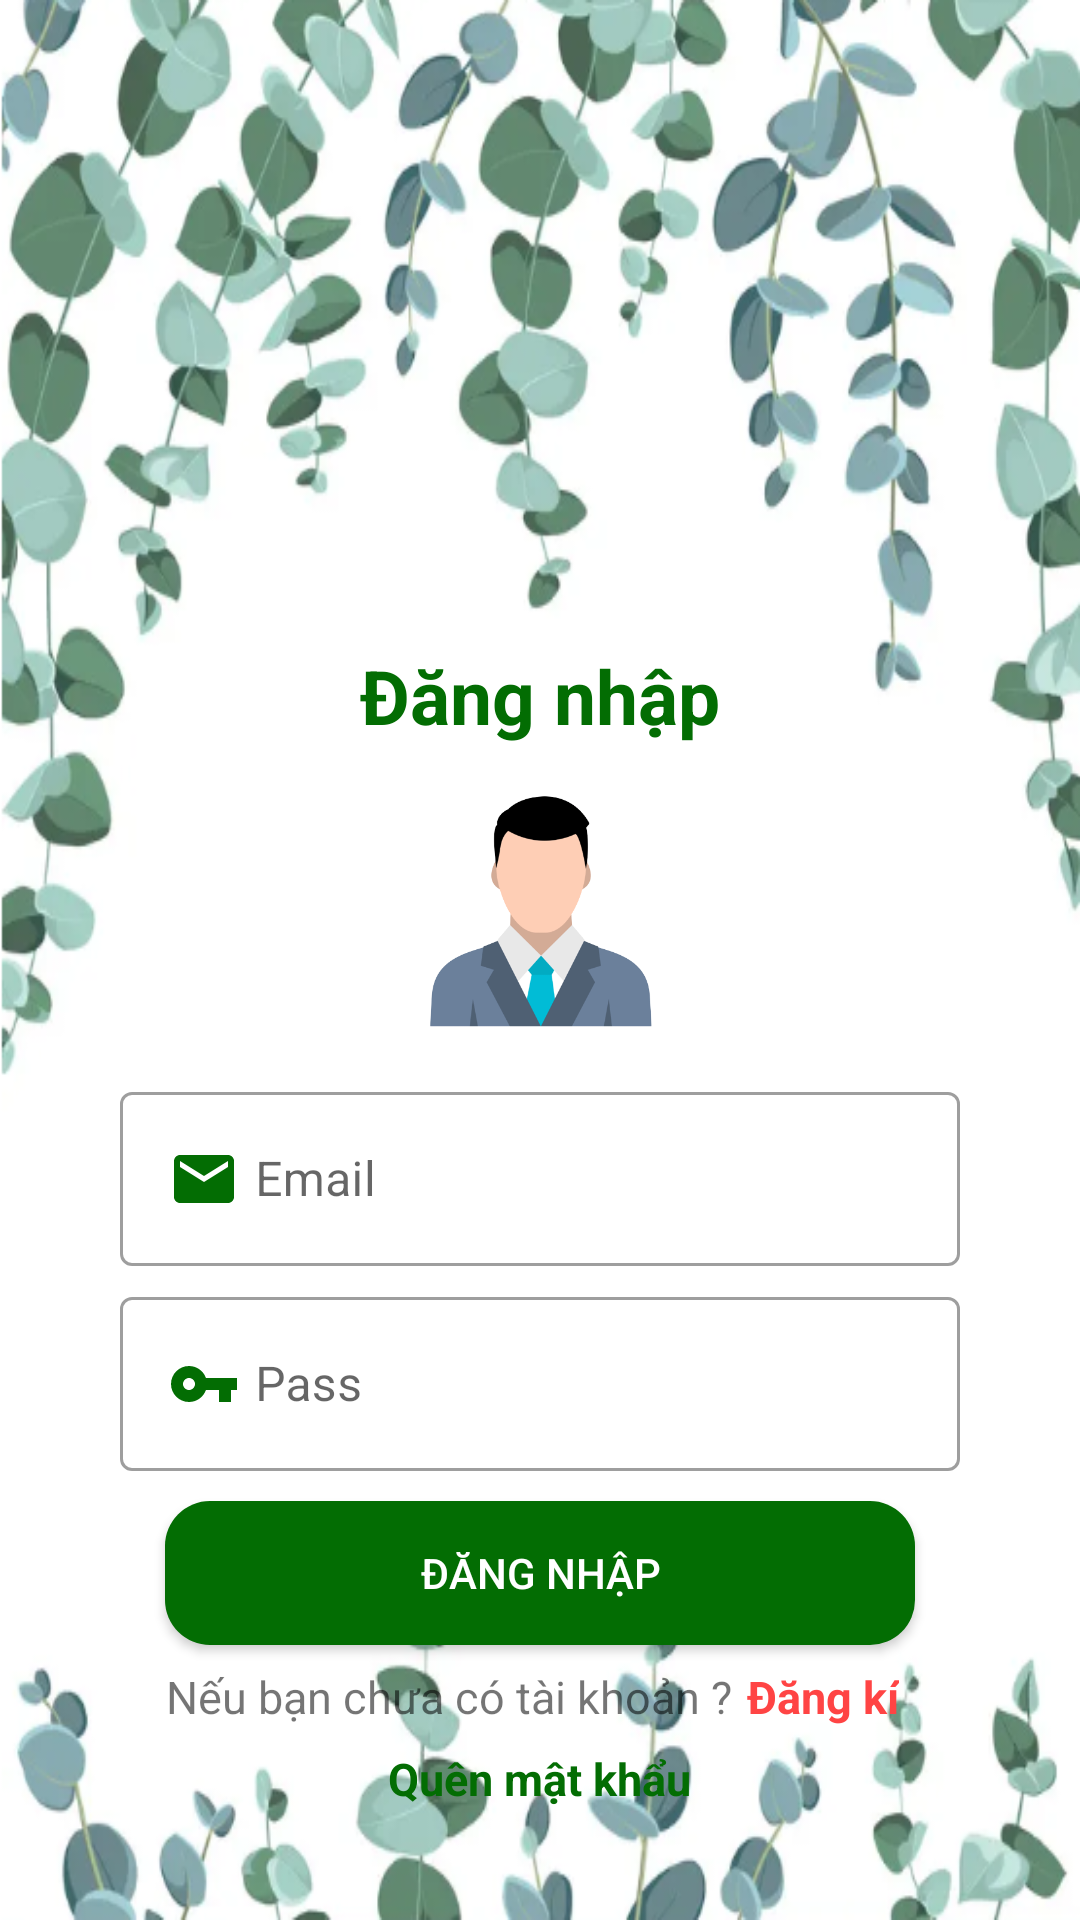

Where icons sit on this 1080*1920 app screen, as (x1, y1, x2, y2):
user: (430, 796, 652, 1027)
